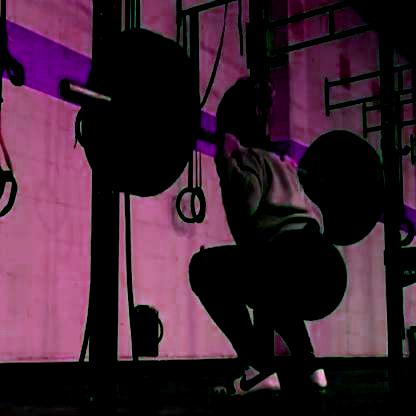Barbell: (59, 78, 73, 101)
